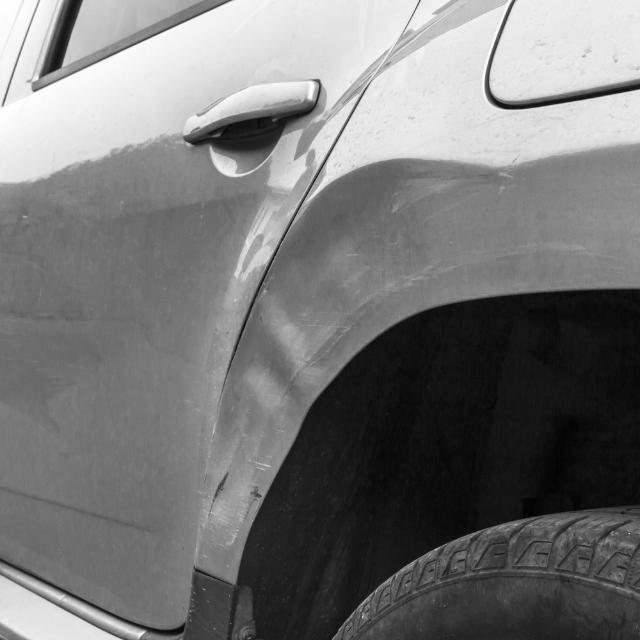dent: (200, 161, 527, 527)
